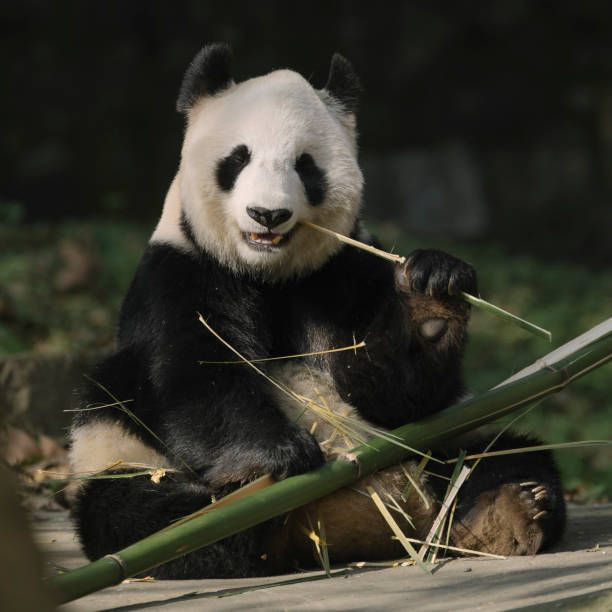panda: (174, 17, 381, 300)
